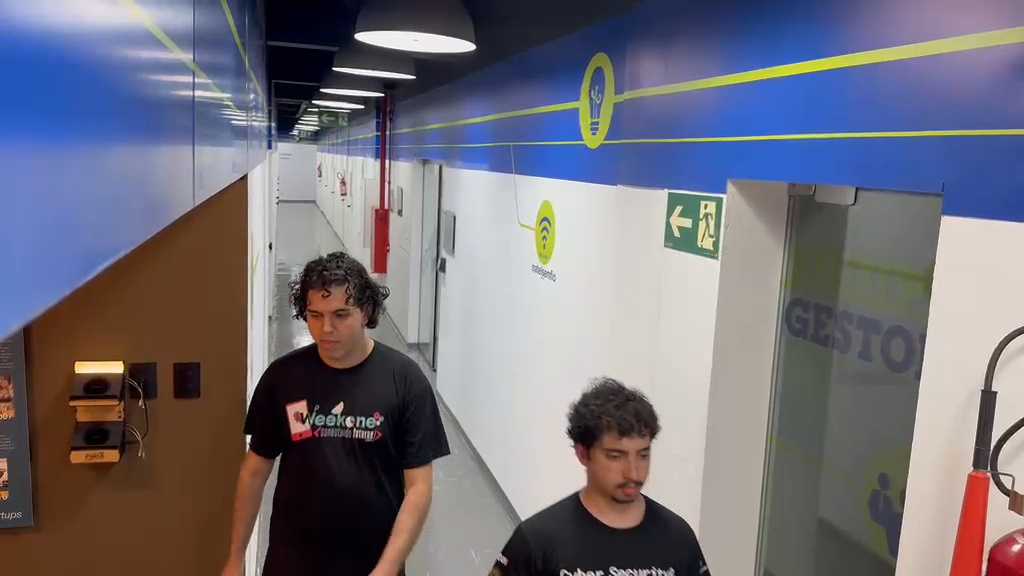person: (220, 251, 450, 573), (488, 375, 711, 573)
